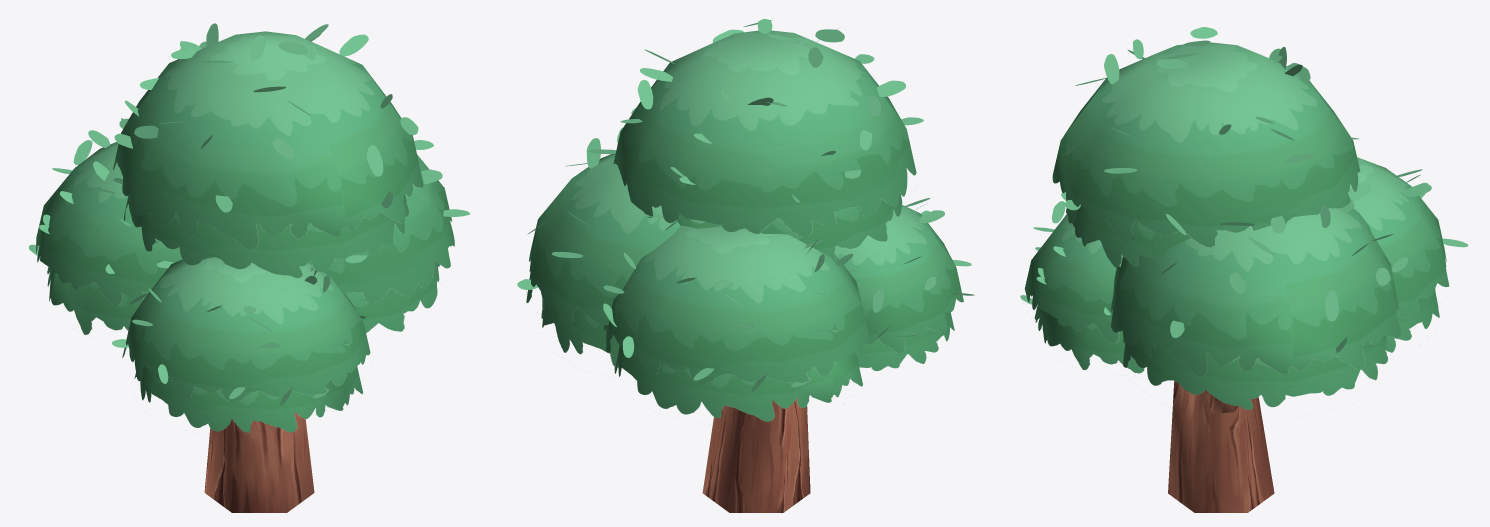
Rendered from Tree.glb.
The picture shows the model from 3 angles, left to right: view 1: azimuth 30°, elevation 25°; view 2: azimuth 150°, elevation 25°; view 3: azimuth 270°, elevation 25°; orthographic projection. The views are drawn at different scales.
Visible parts, largest first — view 1: TreeLeaveBunch.008, TreeLeaveBunch.010, BaseTreeLeaveBunch.002, TreeLeaveBunch.011, TreeBody.001, TreeLeaveBunch.012, TreeLeaveBunch.005, TreeLeaveBunch.001, TreeLeaveBunch.004, TreeLeaveBunch.006; view 2: TreeLeaveBunch.008, TreeLeaveBunch.011, BaseTreeLeaveBunch.002, TreeLeaveBunch.012, TreeLeaveBunch.010, TreeBody.001, TreeLeaveBunch.005, TreeLeaveBunch.001, TreeLeaveBunch.004, TreeLeaveBunch.006; view 3: TreeLeaveBunch.008, TreeLeaveBunch.012, BaseTreeLeaveBunch.002, TreeBody.001, TreeLeaveBunch.011, TreeLeaveBunch.010, TreeLeaveBunch.005, TreeLeaveBunch.006, TreeLeaveBunch.001, TreeLeaveBunch.004.
Boxes of the visible parts, box(x1,y1,x2,y2) form: TreeLeaveBunch.008: box(113, 31, 423, 248); TreeLeaveBunch.010: box(122, 257, 370, 401); BaseTreeLeaveBunch.002: box(47, 192, 439, 432); TreeLeaveBunch.011: box(36, 142, 182, 306); TreeBody.001: box(204, 412, 314, 512); TreeLeaveBunch.012: box(308, 154, 454, 303); TreeLeaveBunch.005: box(114, 23, 418, 212); TreeLeaveBunch.001: box(29, 118, 174, 273); TreeLeaveBunch.004: box(112, 266, 365, 405); TreeLeaveBunch.006: box(345, 140, 469, 263); TreeLeaveBunch.008: box(613, 30, 916, 237); TreeLeaveBunch.011: box(603, 225, 870, 397); BaseTreeLeaveBunch.002: box(541, 192, 954, 421); TreeLeaveBunch.012: box(526, 154, 680, 328); TreeLeaveBunch.010: box(834, 205, 963, 353); TreeBody.001: box(702, 397, 810, 512); TreeLeaveBunch.005: box(589, 19, 923, 217); TreeLeaveBunch.001: box(603, 219, 855, 391); TreeLeaveBunch.004: box(834, 198, 974, 337); TreeLeaveBunch.006: box(517, 127, 720, 326); TreeLeaveBunch.008: box(1052, 42, 1360, 247); TreeLeaveBunch.012: box(1111, 208, 1400, 386); BaseTreeLeaveBunch.002: box(1034, 204, 1439, 409); TreeBody.001: box(1168, 380, 1274, 512); TreeLeaveBunch.011: box(1350, 157, 1449, 320); TreeLeaveBunch.010: box(1024, 214, 1122, 343); TreeLeaveBunch.005: box(1062, 27, 1359, 235); TreeLeaveBunch.006: box(1119, 183, 1390, 352); TreeLeaveBunch.001: box(1372, 169, 1468, 271); TreeLeaveBunch.004: box(1020, 192, 1116, 315).
Bounding box in the file's own units: 7.65 × 9.36 × 8.74.
3 materials, 3 textured.
